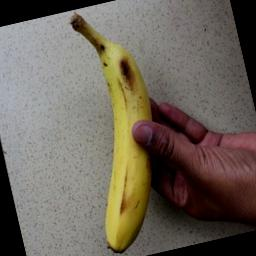Banana Ripe: (49, 0, 201, 256)
